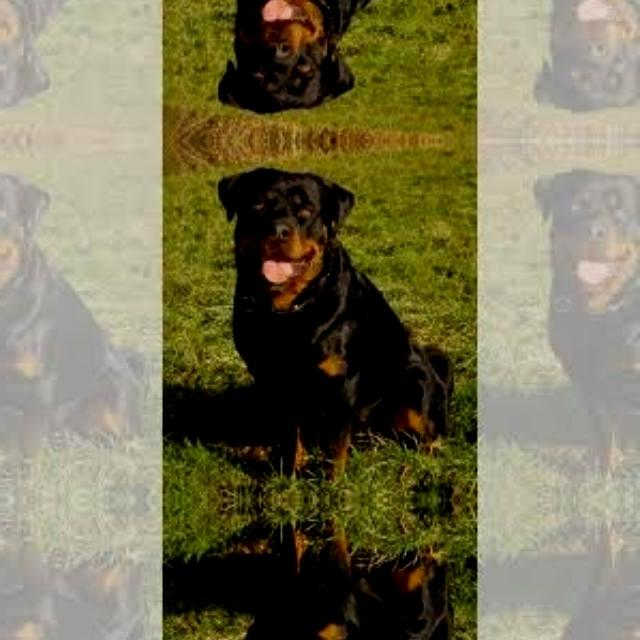dog: (204, 158, 378, 312), (204, 0, 379, 122)
